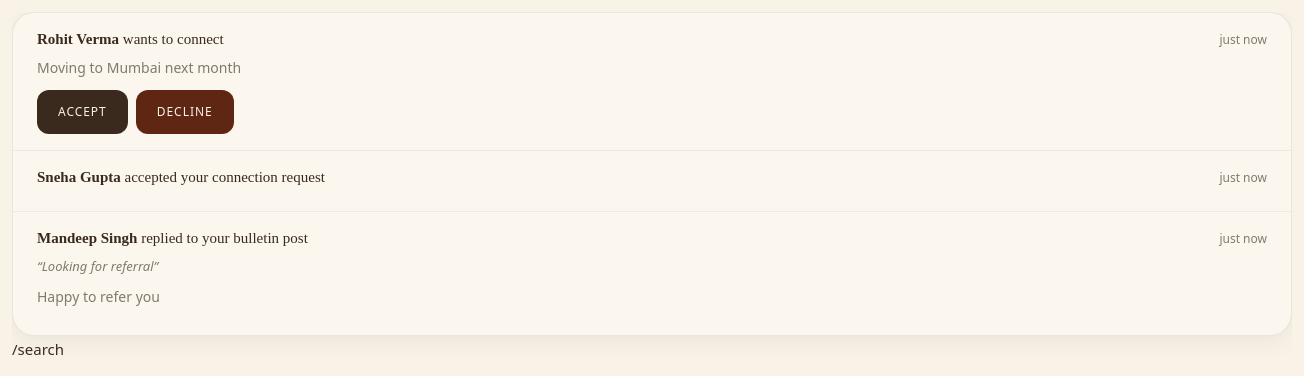
Test: notification quick view (bottom sheet) activation › full inbox keeps the per-kind destinations
Click the button named "Open profile of Sneha Gupta" at {"x": 652, "y": 181}, box [13,151,1291,211]
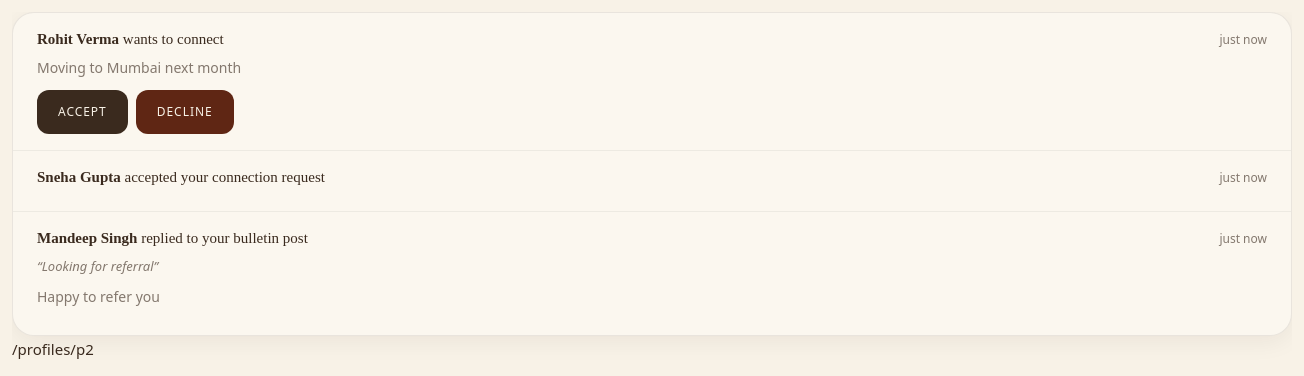
Result: the text with test id "loc" reads "/profiles/p2" at [12,339,94,359]
